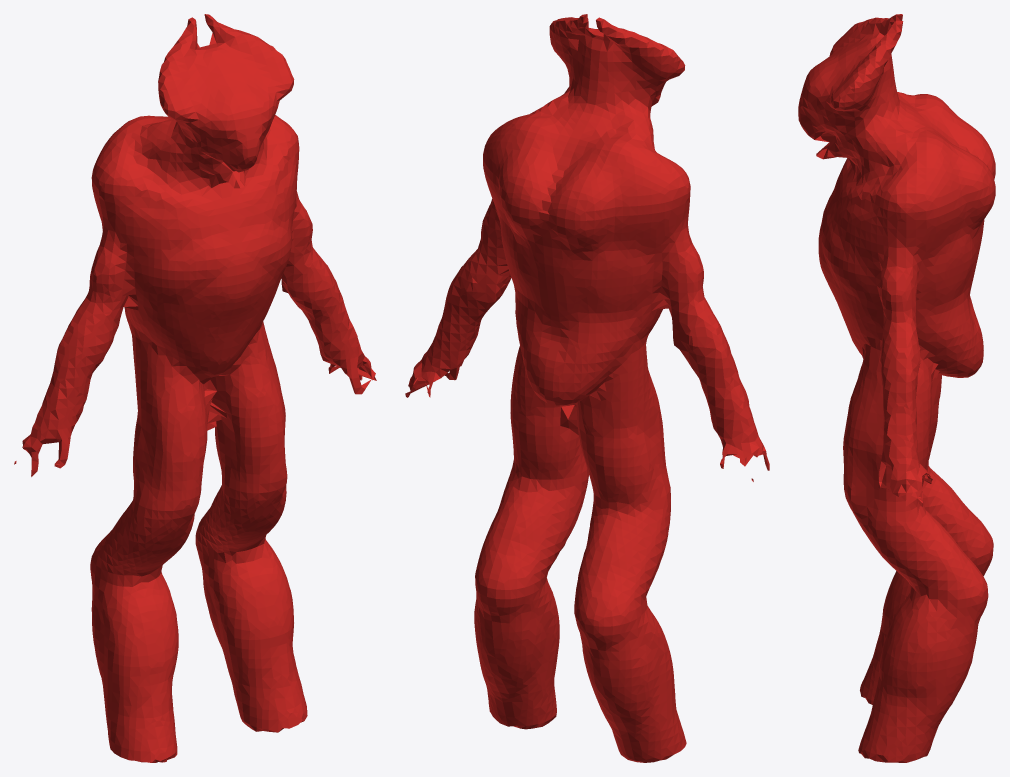
The model's file is ENEMY.obj.
The picture shows the model from 3 angles, left to right: view 1: azimuth 30°, elevation 25°; view 2: azimuth 150°, elevation 25°; view 3: azimuth 270°, elevation 25°; orthographic projection.
Parts seen in each view (by area): view 1: 球.001; view 2: 球.001; view 3: 球.001.
Boxes of the visible parts, <box> form: 球.001: <box>14,14,376,762</box>; 球.001: <box>405,14,769,762</box>; 球.001: <box>798,14,995,762</box>.
Size of the model in its own units: 0.9133 by 1.78 by 0.4498.
